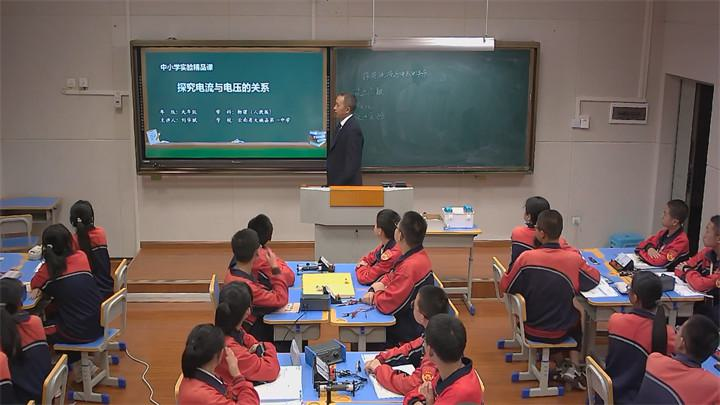listen: (36, 221, 95, 335), (419, 316, 481, 403), (669, 304, 715, 400), (616, 268, 666, 356), (216, 268, 264, 349), (391, 205, 434, 289), (645, 191, 686, 267), (359, 194, 397, 270), (692, 203, 720, 294)
